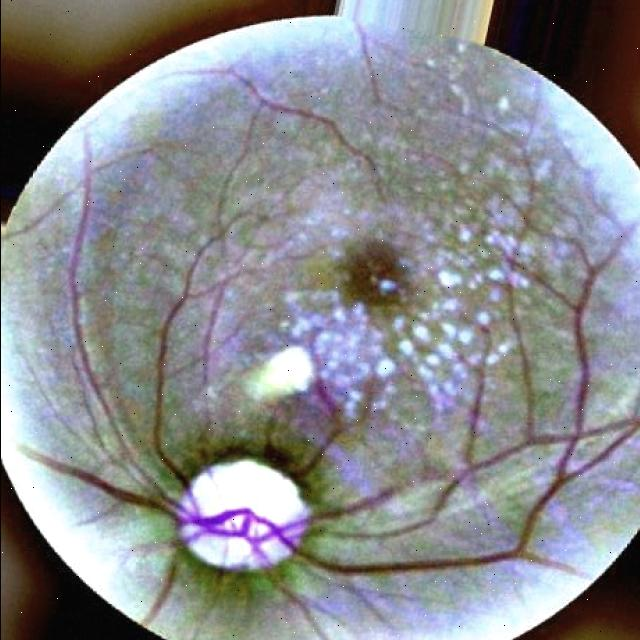Macula: (342, 247, 398, 304)
Nerves: (17, 252, 640, 627), (262, 575, 314, 626)
Optic Disk: (177, 461, 307, 570)
